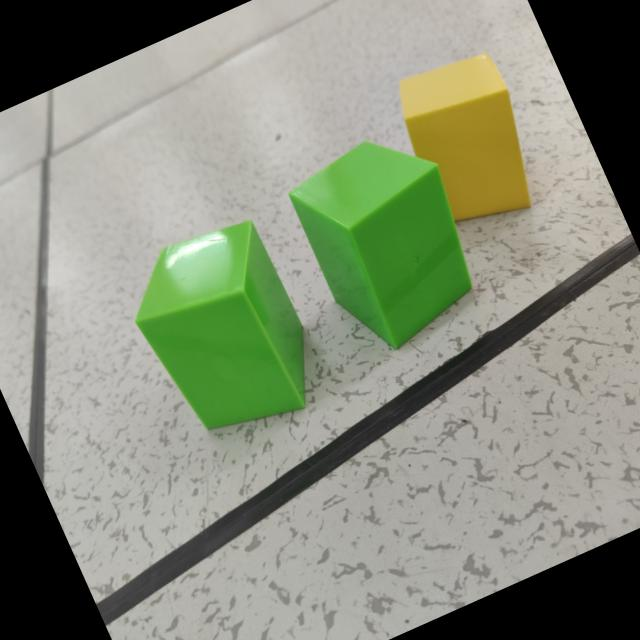green: (289, 142, 474, 350), (136, 221, 307, 433)
yellow: (400, 55, 533, 224)
